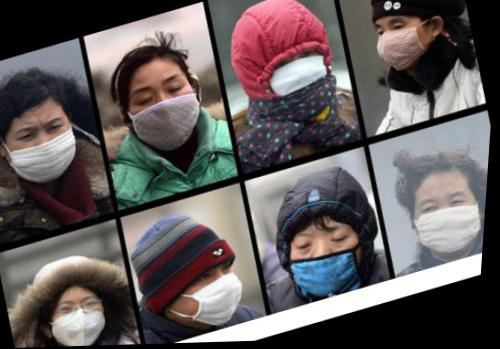OK: (122, 66, 211, 160), (173, 246, 257, 339), (4, 106, 88, 191), (408, 179, 490, 265), (261, 36, 337, 112), (49, 284, 121, 347)
WRONG: (282, 209, 378, 307), (370, 4, 442, 82)
